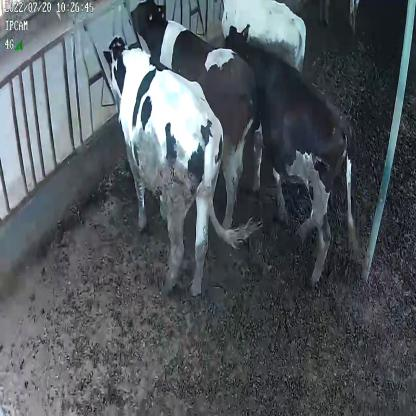cow: (100, 31, 262, 301), (219, 22, 364, 287), (129, 0, 266, 229)
